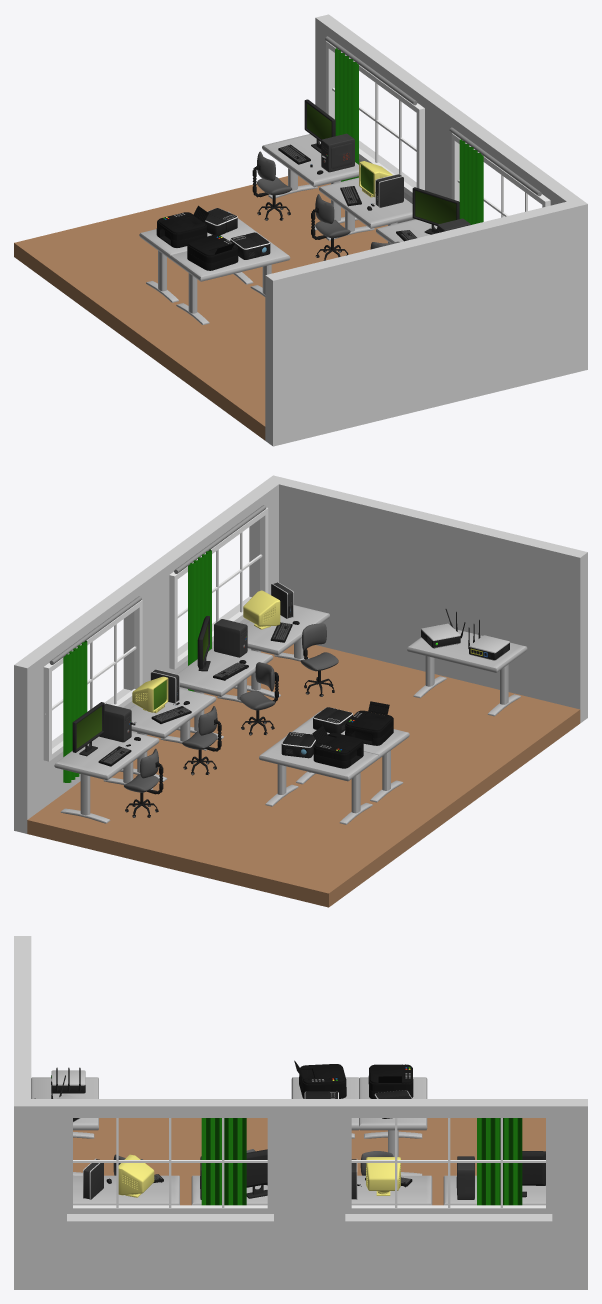
File: computer_classroom.glb
The picture shows the model from 3 angles, top to bottom: view 1: azimuth 30°, elevation 25°; view 2: azimuth 150°, elevation 25°; view 3: azimuth 270°, elevation 25°; orthographic projection. The views are drawn at different scales.
Parts seen in each view (by area): view 1: Object_4, Object_56, Object_58, Object_9, Object_6, Object_62, Object_66, Object_14, Object_64, Object_48, Object_50, Object_26 (+7 smaller); view 2: Object_4, Object_56, Object_60, Object_62, Object_9, Object_6, Object_66, Object_64, Object_58, Object_54, Object_52, Object_50 (+14 smaller); view 3: Object_4, Object_56, Object_6, Object_9, Object_62, Object_64, Object_60, Object_66, Object_18, Object_16, Object_14, Object_12 (+4 smaller).
Boxes of the visible parts, x1=… form: Object_4: x1=14, y1=14, x2=587, y2=446; Object_56: x1=262, y1=134, x2=437, y2=243; Object_58: x1=170, y1=234, x2=290, y2=324; Object_9: x1=335, y1=48, x2=358, y2=181; Object_6: x1=459, y1=139, x2=483, y2=224; Object_62: x1=139, y1=211, x2=258, y2=302; Object_66: x1=156, y1=205, x2=208, y2=247; Object_14: x1=412, y1=187, x2=459, y2=234; Object_64: x1=187, y1=234, x2=238, y2=270; Object_48: x1=252, y1=151, x2=291, y2=220; Object_50: x1=311, y1=194, x2=350, y2=260; Object_26: x1=321, y1=133, x2=354, y2=172; Object_4: x1=14, y1=475, x2=587, y2=907; Object_56: x1=54, y1=605, x2=329, y2=823; Object_60: x1=407, y1=625, x2=527, y2=716; Object_62: x1=259, y1=736, x2=378, y2=824; Object_9: x1=63, y1=640, x2=87, y2=782; Object_6: x1=188, y1=549, x2=211, y2=691; Object_66: x1=312, y1=726, x2=363, y2=768; Object_64: x1=345, y1=701, x2=393, y2=745; Object_58: x1=292, y1=711, x2=409, y2=802; Object_54: x1=300, y1=623, x2=338, y2=696; Object_52: x1=239, y1=662, x2=278, y2=735; Object_50: x1=182, y1=706, x2=221, y2=775; Object_4: x1=14, y1=936, x2=587, y2=1289; Object_56: x1=73, y1=1175, x2=545, y2=1205; Object_6: x1=201, y1=1118, x2=246, y2=1205; Object_9: x1=477, y1=1118, x2=522, y2=1205; Object_62: x1=359, y1=1077, x2=427, y2=1175; Object_64: x1=294, y1=1060, x2=346, y2=1098; Object_60: x1=31, y1=1077, x2=98, y2=1175; Object_66: x1=368, y1=1064, x2=413, y2=1098; Object_18: x1=118, y1=1154, x2=154, y2=1197; Object_16: x1=366, y1=1157, x2=400, y2=1195; Object_14: x1=246, y1=1149, x2=267, y2=1198; Object_12: x1=522, y1=1151, x2=545, y2=1197.
Bounding box in the file's own units: 7.04 × 3.54 × 10.03.
Materials: 2 (2 with a texture image).
